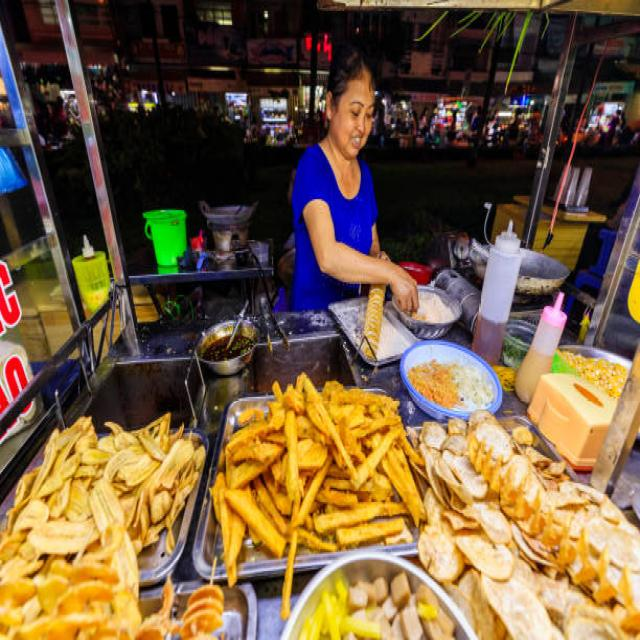Emperan: (2, 226, 640, 629)
